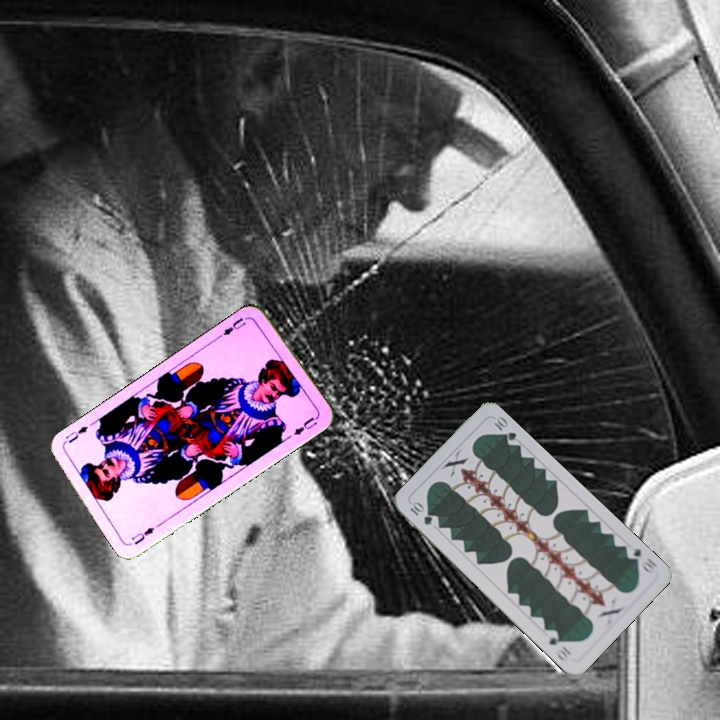EU: (215, 313, 251, 340), (127, 523, 157, 547)
G10: (622, 541, 660, 576), (406, 498, 435, 528)
